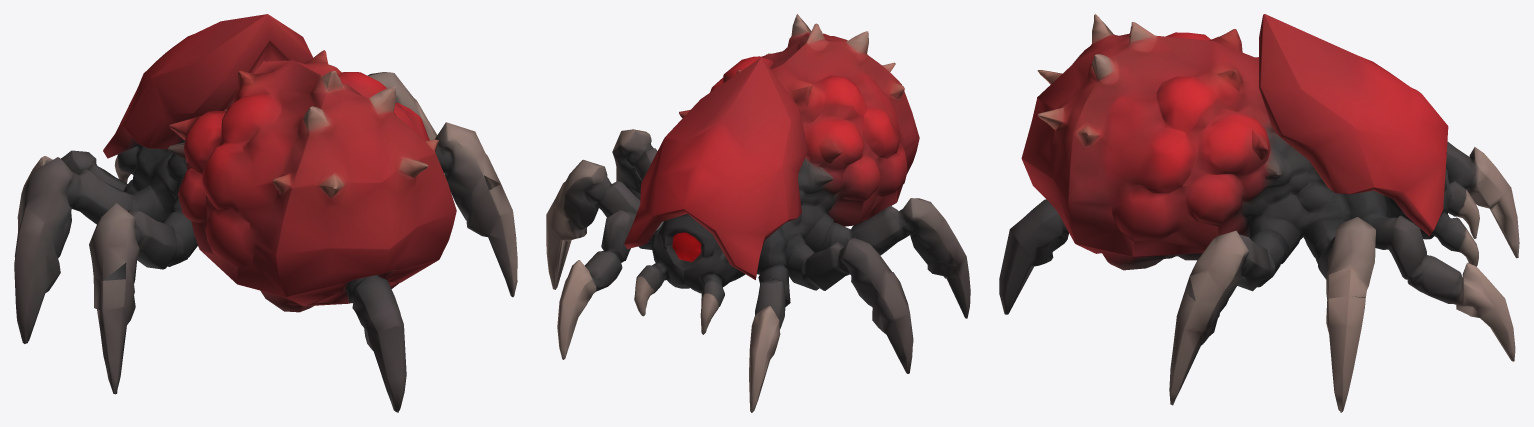
The model's file is crawler_queen.glb.
The picture shows the model from 3 angles, left to right: view 1: azimuth 30°, elevation 25°; view 2: azimuth 150°, elevation 25°; view 3: azimuth 270°, elevation 25°; orthographic projection. The views are drawn at different scales.
Parts seen in each view (by area): view 1: tripo_node_e151eb9f-f508-4aca-b52a-e30fe457a3e4; view 2: tripo_node_e151eb9f-f508-4aca-b52a-e30fe457a3e4; view 3: tripo_node_e151eb9f-f508-4aca-b52a-e30fe457a3e4.
Part boxes in pixels (x1,y1,x2,y2): tripo_node_e151eb9f-f508-4aca-b52a-e30fe457a3e4: (14,14,517,412); tripo_node_e151eb9f-f508-4aca-b52a-e30fe457a3e4: (546,14,970,412); tripo_node_e151eb9f-f508-4aca-b52a-e30fe457a3e4: (999,14,1519,412).
Bounding box in the file's own units: 0.953 × 0.636 × 1.
1 material, 1 textured.
